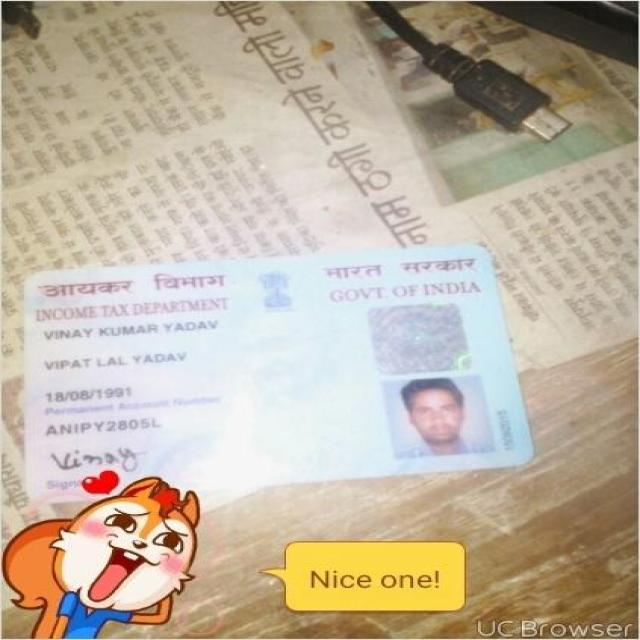pan_card: (28, 245, 530, 505)
